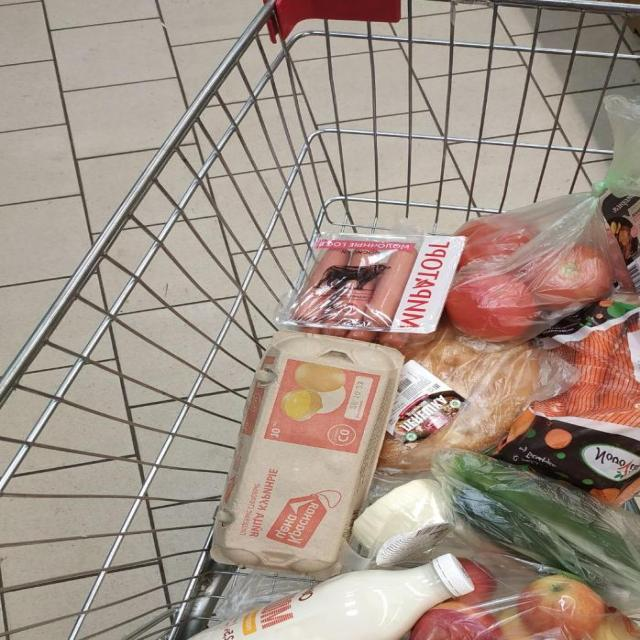Apple: (519, 575, 606, 639), (436, 600, 498, 639), (457, 557, 496, 605), (592, 612, 638, 640), (496, 609, 532, 640)
Bread: (379, 325, 539, 472)
Carrot: (564, 323, 625, 416), (599, 346, 640, 410), (592, 402, 640, 425)
Cheese: (349, 480, 452, 568)
Cucumber: (447, 451, 631, 554), (452, 487, 580, 572)
Eggs: (211, 332, 404, 575)
Milk: (186, 554, 475, 640)
Sausages: (278, 234, 463, 348)
Tomatoes: (445, 274, 539, 342), (530, 244, 612, 302), (457, 215, 539, 267)
